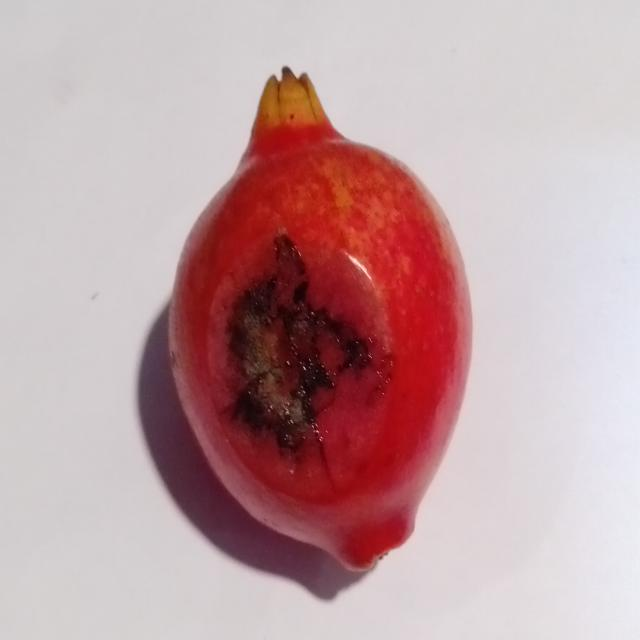Rotten: (163, 59, 479, 586)
